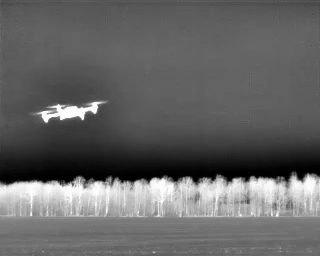DRONE: (28, 96, 114, 129)
